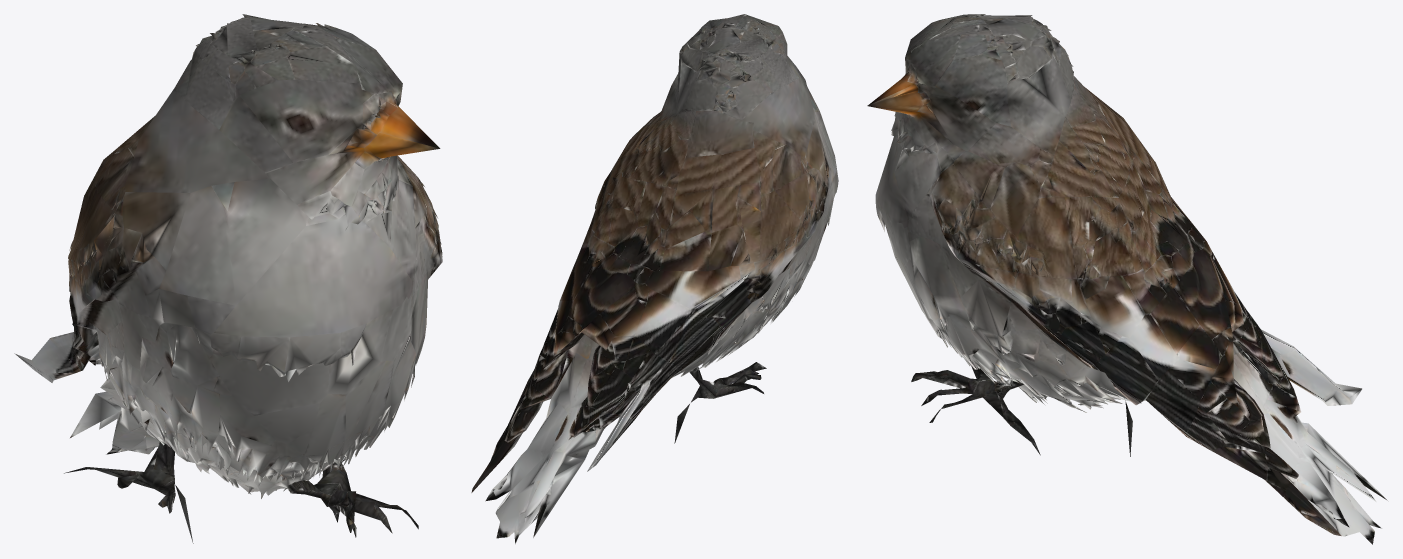
Rendered from fringuello.glb.
3 views of the same model, side by side, from view 1: azimuth 30°, elevation 25°; view 2: azimuth 150°, elevation 25°; view 3: azimuth 270°, elevation 25° (orthographic). The views are drawn at different scales.
Bounding box in the file's own units: 1.03 × 1.85 × 1.83.
1 material, 1 textured.
